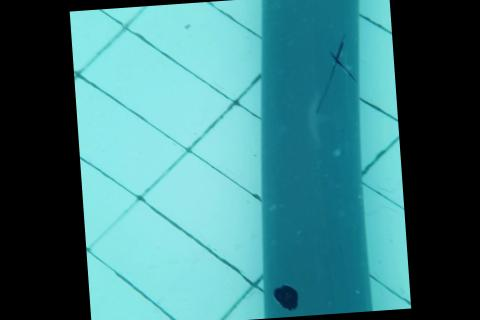kebocoran: (270, 282, 300, 311)
keretakan: (308, 33, 357, 113)
